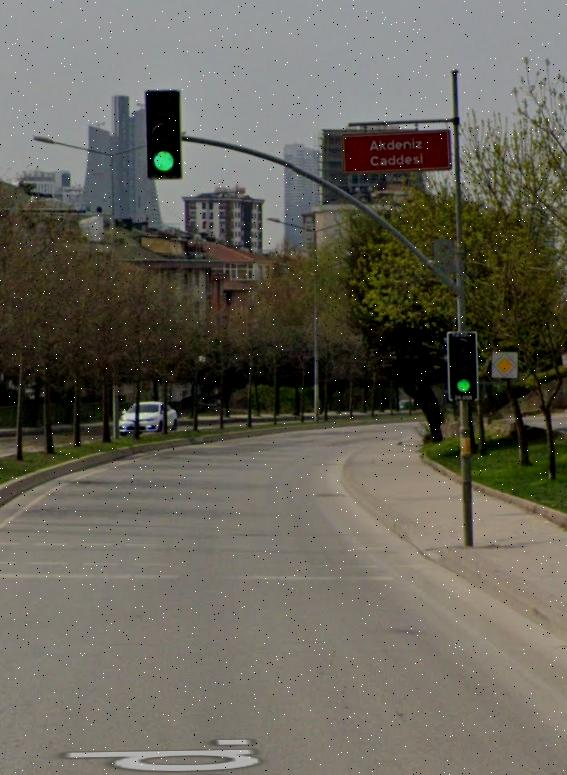greenlight: (143, 88, 183, 180), (447, 331, 480, 401)
